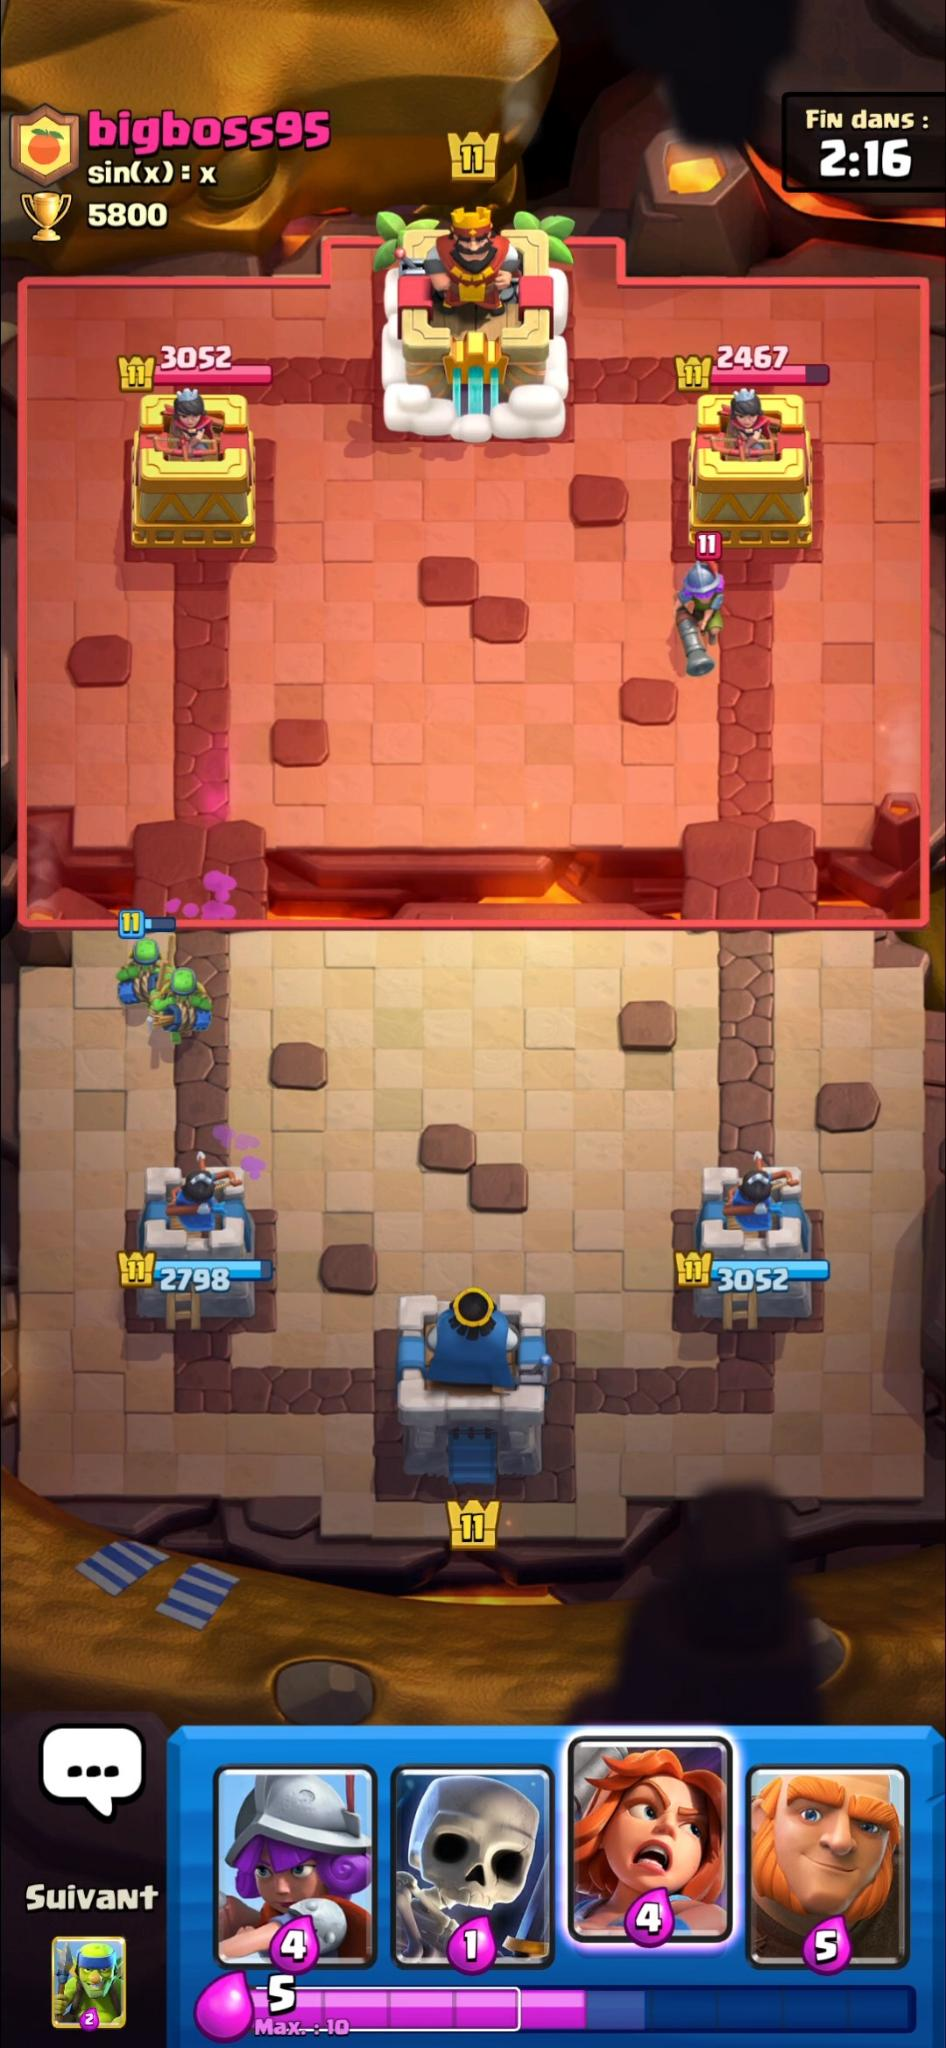gobelin_lances: (154, 967, 214, 1038), (114, 938, 175, 1003)
mousquetaire: (674, 564, 730, 677)
